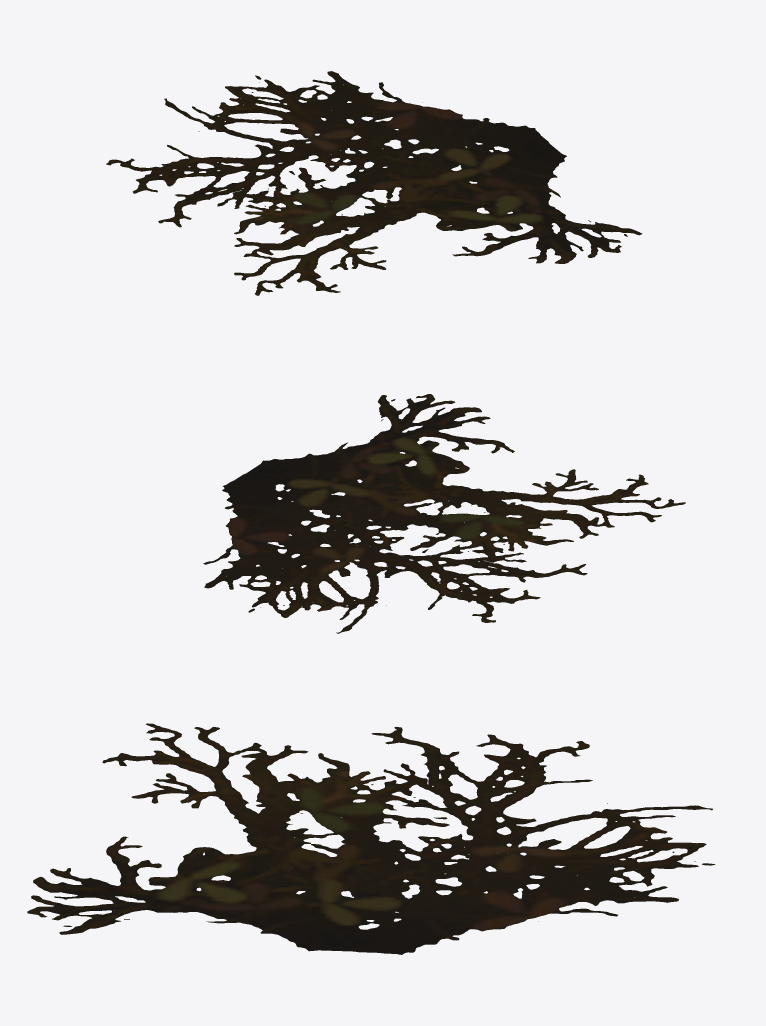
Rendered from hazz_grass_b_03.FBX.
3 views of the same model, one above another, from view 1: azimuth 30°, elevation 25°; view 2: azimuth 150°, elevation 25°; view 3: azimuth 270°, elevation 25° (orthographic). The views are drawn at different scales.
Parts seen in each view (by area): view 1: hazz_grass_b_03; view 2: hazz_grass_b_03; view 3: hazz_grass_b_03.
Part boxes in pixels (x1,y1,x2,y2): hazz_grass_b_03: [106, 71, 642, 295]; hazz_grass_b_03: [203, 394, 685, 633]; hazz_grass_b_03: [27, 723, 715, 954].
Bounding box in the file's own units: 243 × 2.51 × 250.
